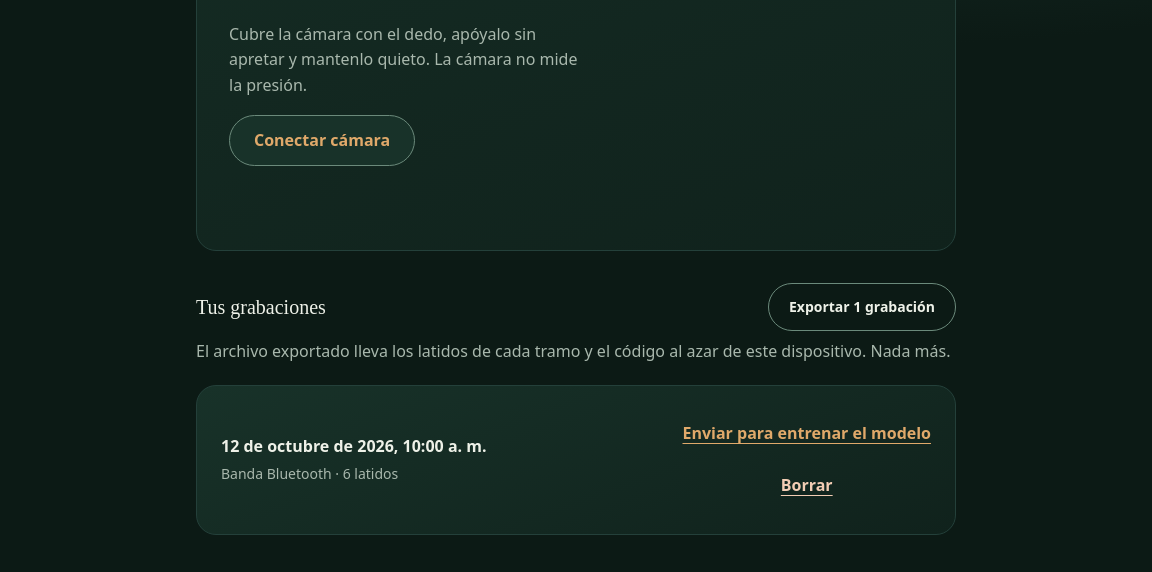
Scenario: sending guided recordings for training › sends a recording only after the person agrees, and then says it was sent
(page scrolled)
Click the button "Enviar para entrenar el modelo" at (807, 434), box left=682, top=410, right=931, bottom=458
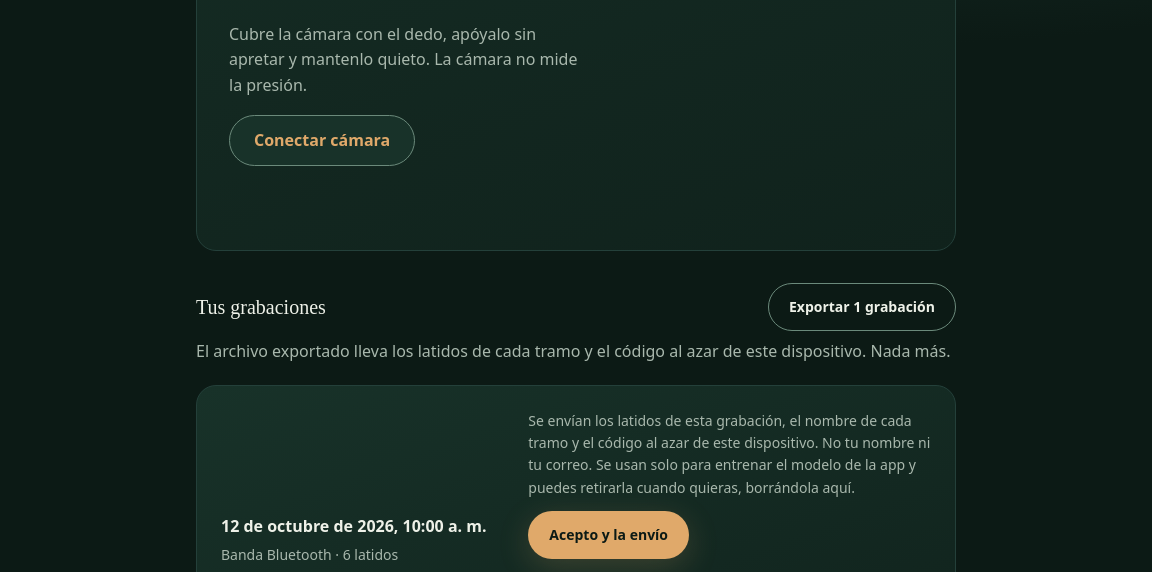
Expected: the text "Se envían los latidos de esta grabación, el nombre de cada tramo y el código al azar de este dispositivo. No tu nombre n" is shown, left=528, top=411, right=930, bottom=497
Click the button "Acepto y la envío" at (609, 535), box left=528, top=511, right=689, bottom=559
(page scrolled)
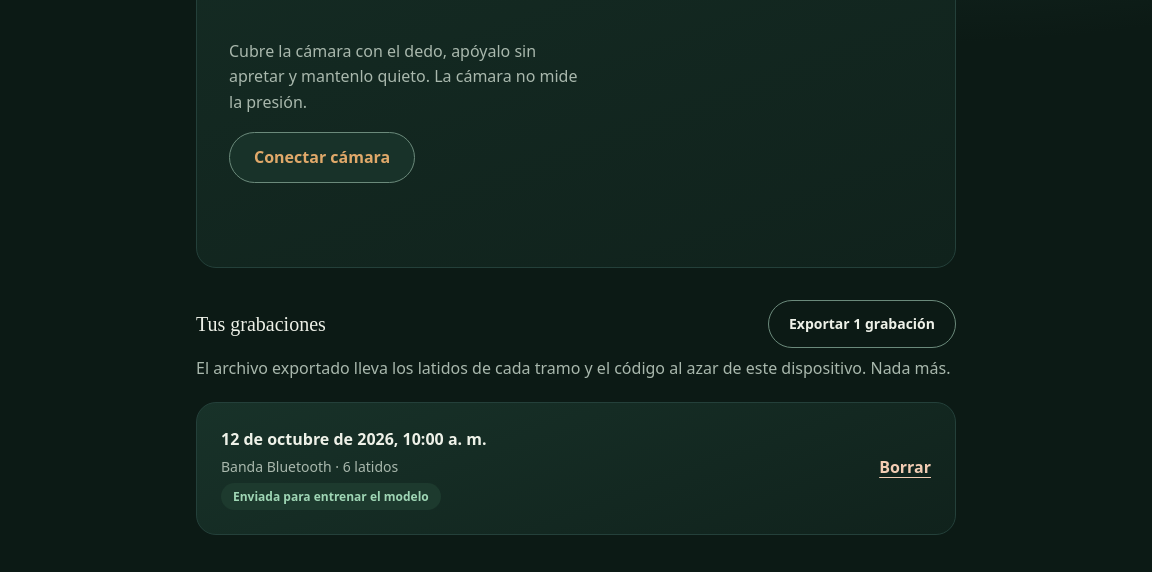
Expected: the button "Enviar para entrenar el modelo" is not shown
Expected: the text with test id "recording-sent" reads "Enviada para entrenar el modelo", left=233, top=488, right=429, bottom=505
